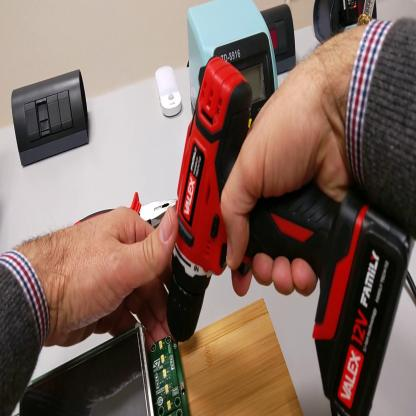electric screwdriver: (167, 54, 416, 346)
hand: (217, 55, 361, 296), (44, 204, 191, 353)
low voltage board: (16, 322, 192, 416)
pliers: (73, 193, 175, 229)
socket: (313, 1, 380, 47), (261, 1, 299, 74)
welder base: (347, 2, 378, 32)
welder station: (186, 2, 281, 132)
working area: (178, 299, 304, 416)
